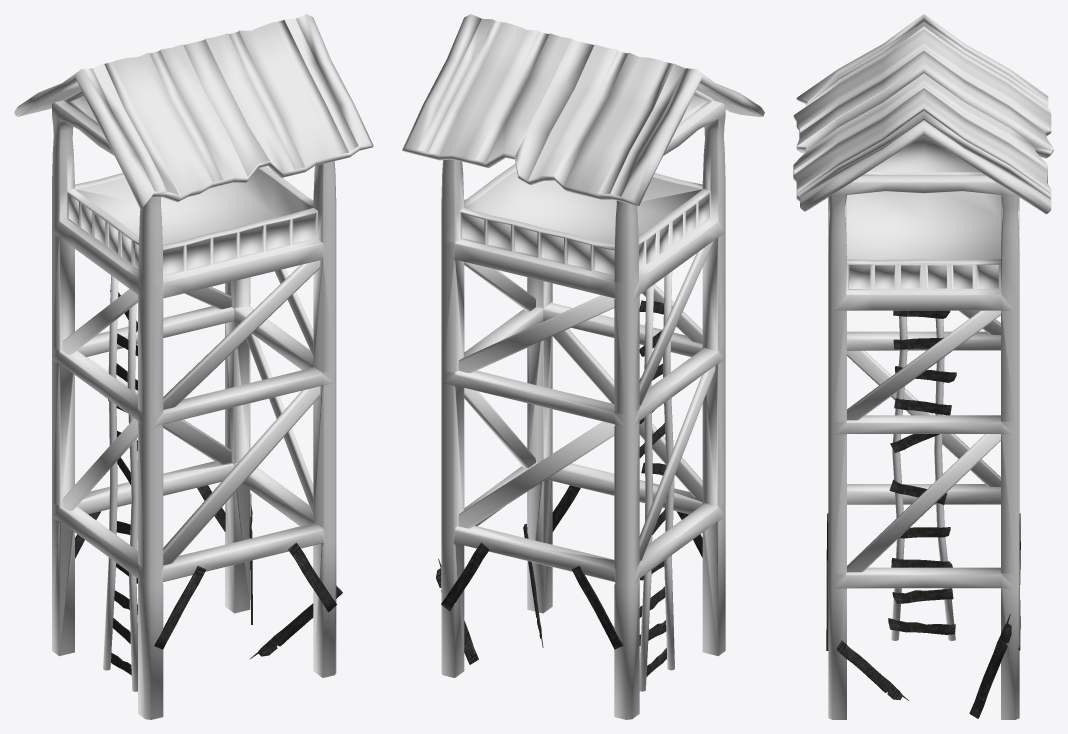
The model's file is HunterTower.fbx.
3 renders of one model, left to right at view 1: azimuth 30°, elevation 25°; view 2: azimuth 150°, elevation 25°; view 3: azimuth 270°, elevation 25°, orthographic. The views are drawn at different scales.
Visible parts, largest first — view 1: BODY 001.002, Plank Processed.005, Plank Processed.001, Special Plank.001; view 2: BODY 001.002, Plank Processed.005, Plank Processed.001; view 3: BODY 001.002, Plank Processed.001, Special Plank, Special Plank.001, Plank Processed.005.
Boxes of the visible parts, x1,y1,x2,y2 form: BODY 001.002: (14,14,373,719); Plank Processed.005: (75,485,336,649); Plank Processed.001: (108,290,137,675); Special Plank.001: (250,585,342,658); BODY 001.002: (402,14,764,719); Plank Processed.005: (441,485,702,649); Plank Processed.001: (639,300,666,676); BODY 001.002: (793,14,1053,719); Plank Processed.001: (888,310,956,634); Special Plank: (969,614,1011,718); Special Plank.001: (836,640,908,700); Plank Processed.005: (826,513,1020,650).
Bounding box in the file's own units: 749 × 1871 × 723.
